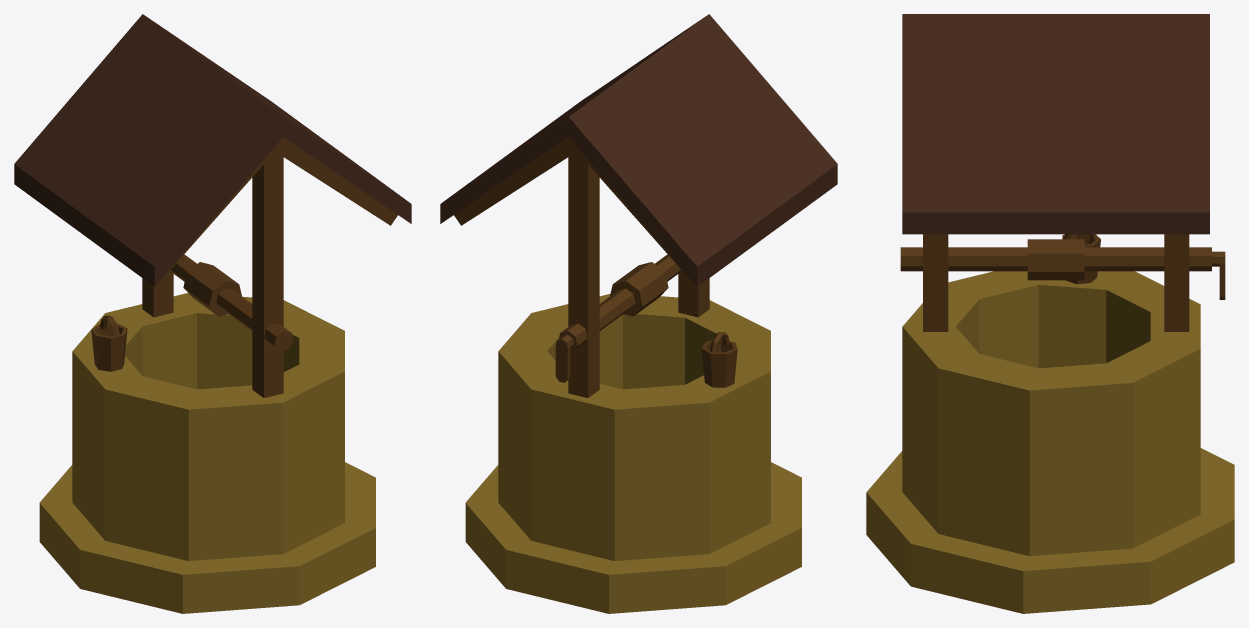
File: WelllWelllWelll.fbx
3 renders of one model, left to right at view 1: azimuth 30°, elevation 25°; view 2: azimuth 150°, elevation 25°; view 3: azimuth 270°, elevation 25°, orthographic. The views are drawn at different scales.
Parts seen in each view (by area): view 1: Cube.010; view 2: Cube.010; view 3: Cube.010.
Boxes of the visible parts, <box> form: Cube.010: <box>14,14,411,613</box>; Cube.010: <box>440,14,837,613</box>; Cube.010: <box>866,14,1234,613</box>.
Size of the model in its own units: 150 by 231 by 148.
